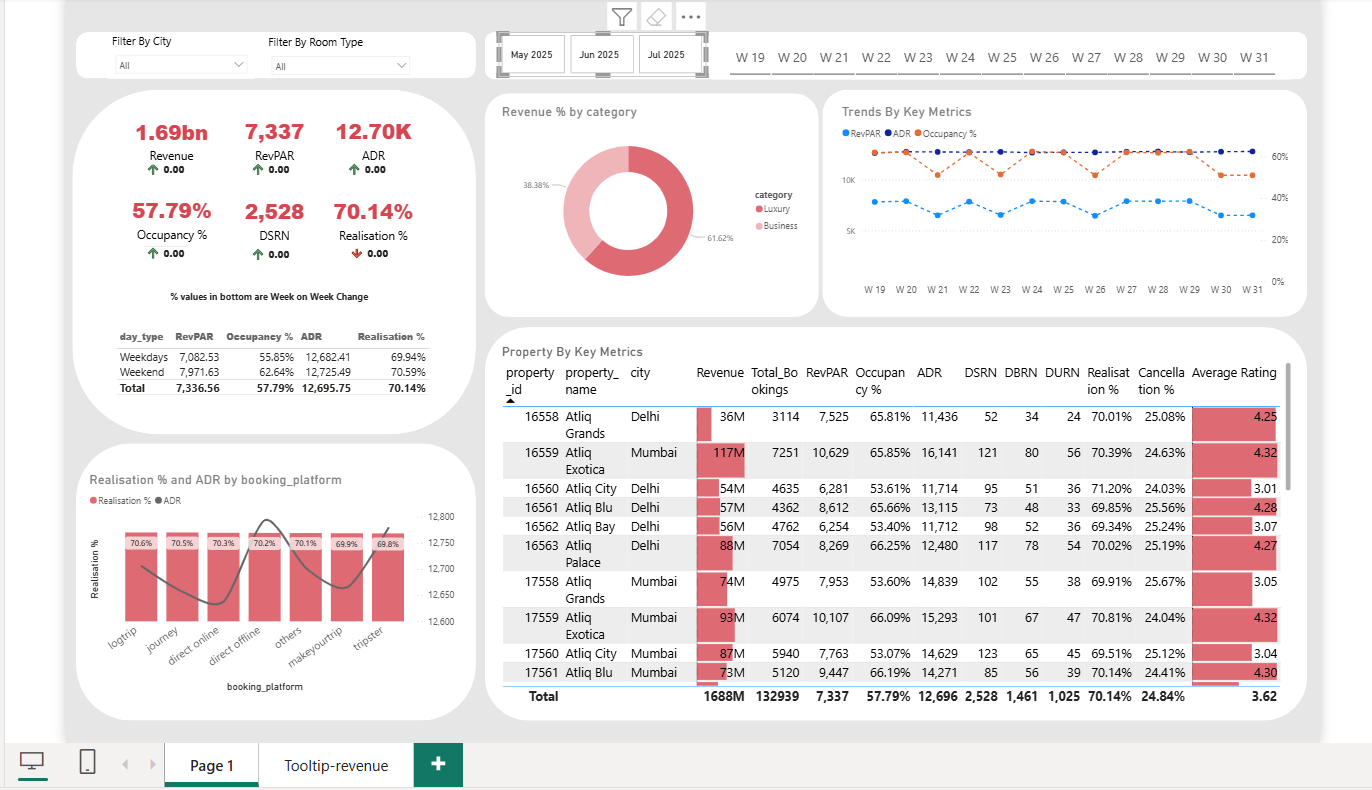

The dashboard page shown, as its layout file describes it:
{"tool":"powerbi","page":{"name":"Page 1","canvas":[1850,1100],"ordinal":0},"visuals":[{"type":"shape","box":[14.7,658,589.8,409.2],"z":0},{"type":"shape","box":[617.5,486.6,1212.8,580.6],"z":1000},{"type":"shape","box":[1115.1,136.4,715.2,335.5],"z":2000},{"type":"shape","box":[616.6,142.4,492.6,330.1],"z":3000},{"type":"shape","box":[15.1,51.9,589.8,68.7],"z":4000},{"type":"slicer","title":"Filter By City","fields":{"Values":["dim_hotels.city"]},"box":[62,53.6,214.5,67],"z":5000},{"type":"slicer","title":"Filter By Room Type","fields":{"Values":["dim_rooms.room_class"]},"box":[293.2,55.3,224.5,63.7],"z":6000},{"type":"tableEx","title":"Property By Key Metrics","fields":{"Values":["dim_hotels.property_id","dim_hotels.property_name","dim_hotels.city","key_metrics (2).Revenue","key_metrics (2).Total_Bookings","key_metrics (2).RevPAR","key_metrics (2).Occupancy %","key_metrics (2).ADR","key_metrics (2).DSRN","key_metrics (2).DBRN","key_metrics (2).DURN","key_metrics (2).Realisation %"]},"box":[637.7,512.4,1174.1,536.4],"z":7000},{"type":"lineChart","title":"Trends By Key Metrics","fields":{"Y":["key_metrics (2).RevPAR","key_metrics (2).ADR"],"Y2":["key_metrics (2).Occupancy %"],"Category":["dim_date.mmm yy.Variation.Date Hierarchy.Month","dim_date.week no"]},"box":[1139.1,158.5,667.2,293.1],"z":8000},{"type":"lineStackedColumnComboChart","fields":{"Category":["fact_bookings.booking_platform"],"Y":["key_metrics (2).Realisation %"],"Y2":["key_metrics (2).ADR"]},"box":[29.5,700.4,556.6,329.9],"z":9000},{"type":"shape","box":[617.5,51.6,1212.8,70],"z":10000},{"type":"advancedSlicerVisual","title":"Filter By City","fields":{"Values":["dim_date.mmm yy"]},"box":[637.7,51.6,307.8,66.4],"z":11000},{"type":"slicer","fields":{"Values":["dim_date.week no"]},"box":[952.9,55.3,853.4,66.4],"z":12000},{"type":"shape","box":[9.2,136.4,595.3,508.7],"z":13000},{"type":"tableEx","fields":{"Values":["key_metrics (2).Revenue WoW Change %"]},"box":[109.2,210.1,94,64.5],"z":14000},{"type":"card","fields":{"Values":["key_metrics (2).Revenue"]},"box":[81.5,175.1,149.3,71.9],"z":15000},{"type":"tableEx","fields":{"Values":["key_metrics (2).ADR WoW Change %"]},"box":[405.2,209.5,97.2,63.7],"z":16000},{"type":"card","fields":{"Values":["key_metrics (2).ADR"]},"box":[389.3,175.9,129,70.4],"z":17000},{"type":"tableEx","fields":{"Values":["dim_date.day_type","key_metrics (2).RevPAR","key_metrics (2).Occupancy %","key_metrics (2).ADR","key_metrics (2).Realisation %"]},"box":[68.2,486.6,479.2,106.9],"z":18000},{"type":"tableEx","fields":{"Values":["key_metrics (2).Revenue WoW Change %"]},"box":[263.3,210.1,88.5,64.5],"z":19000},{"type":"card","fields":{"Values":["key_metrics (2).RevPAR"]},"box":[241.4,175.9,132.4,70.4],"z":20000},{"type":"tableEx","fields":{"Values":["key_metrics (2).Occupancy WoW Change %"]},"box":[109.2,333.6,94,64.5],"z":21000},{"type":"card","fields":{"Values":["key_metrics (2).Occupancy %"]},"box":[88.3,286.5,135.7,82.1],"z":22000},{"type":"tableEx","fields":{"Values":["key_metrics (2).Revenue WoW Change %"]},"box":[264.3,335.5,86.6,64.5],"z":23000},{"type":"card","fields":{"Values":["key_metrics (2).DSRN"]},"box":[241.4,284.9,132.4,85.5],"z":24000},{"type":"tableEx","fields":{"Values":["key_metrics (2).Realisation WoW Change %"]},"box":[409.6,333.6,88.5,64.5],"z":25000},{"type":"card","fields":{"Values":["key_metrics (2).Realisation %"]},"box":[389.3,284.9,129,85.5],"z":26000},{"type":"donutChart","title":"Revenue % by category","fields":{"Category":["dim_hotels.category"],"Y":["key_metrics (2).Revenue"]},"box":[637.7,158.5,457.1,293.1],"z":27000},{"type":"textbox","box":[62.7,435,470,36.9],"z":28000}]}

Visuals, with their boxes on the page's 1850x1100 design canvas (x1, y1, x2, y2). These are canvas units, not pixel positions in the 1372x790 screenshot, which may show the page scaled, cropped or inside an application window:
shape: x1=15, y1=658, x2=604, y2=1067
shape: x1=618, y1=487, x2=1830, y2=1067
shape: x1=1115, y1=136, x2=1830, y2=472
shape: x1=617, y1=142, x2=1109, y2=472
shape: x1=15, y1=52, x2=605, y2=121
"Filter By City" slicer: x1=62, y1=54, x2=276, y2=121
"Filter By Room Type" slicer: x1=293, y1=55, x2=518, y2=119
"Property By Key Metrics" tableEx: x1=638, y1=512, x2=1812, y2=1049
"Trends By Key Metrics" lineChart: x1=1139, y1=158, x2=1806, y2=452
lineStackedColumnComboChart - fact_bookings.booking_platform x key_metrics (2).Realisation %: x1=30, y1=700, x2=586, y2=1030
shape: x1=618, y1=52, x2=1830, y2=122
"Filter By City" advancedSlicerVisual: x1=638, y1=52, x2=946, y2=118
slicer - dim_date.week no: x1=953, y1=55, x2=1806, y2=122
shape: x1=9, y1=136, x2=604, y2=645
tableEx - key_metrics (2).Revenue WoW Change %: x1=109, y1=210, x2=203, y2=275
card - key_metrics (2).Revenue: x1=82, y1=175, x2=231, y2=247
tableEx - key_metrics (2).ADR WoW Change %: x1=405, y1=210, x2=502, y2=273
card - key_metrics (2).ADR: x1=389, y1=176, x2=518, y2=246
tableEx - dim_date.day_type x key_metrics (2).RevPAR: x1=68, y1=487, x2=547, y2=594
tableEx - key_metrics (2).Revenue WoW Change %: x1=263, y1=210, x2=352, y2=275
card - key_metrics (2).RevPAR: x1=241, y1=176, x2=374, y2=246
tableEx - key_metrics (2).Occupancy WoW Change %: x1=109, y1=334, x2=203, y2=398
card - key_metrics (2).Occupancy %: x1=88, y1=286, x2=224, y2=369
tableEx - key_metrics (2).Revenue WoW Change %: x1=264, y1=336, x2=351, y2=400
card - key_metrics (2).DSRN: x1=241, y1=285, x2=374, y2=370
tableEx - key_metrics (2).Realisation WoW Change %: x1=410, y1=334, x2=498, y2=398
card - key_metrics (2).Realisation %: x1=389, y1=285, x2=518, y2=370
"Revenue % by category" donutChart: x1=638, y1=158, x2=1095, y2=452
textbox: x1=63, y1=435, x2=533, y2=472
